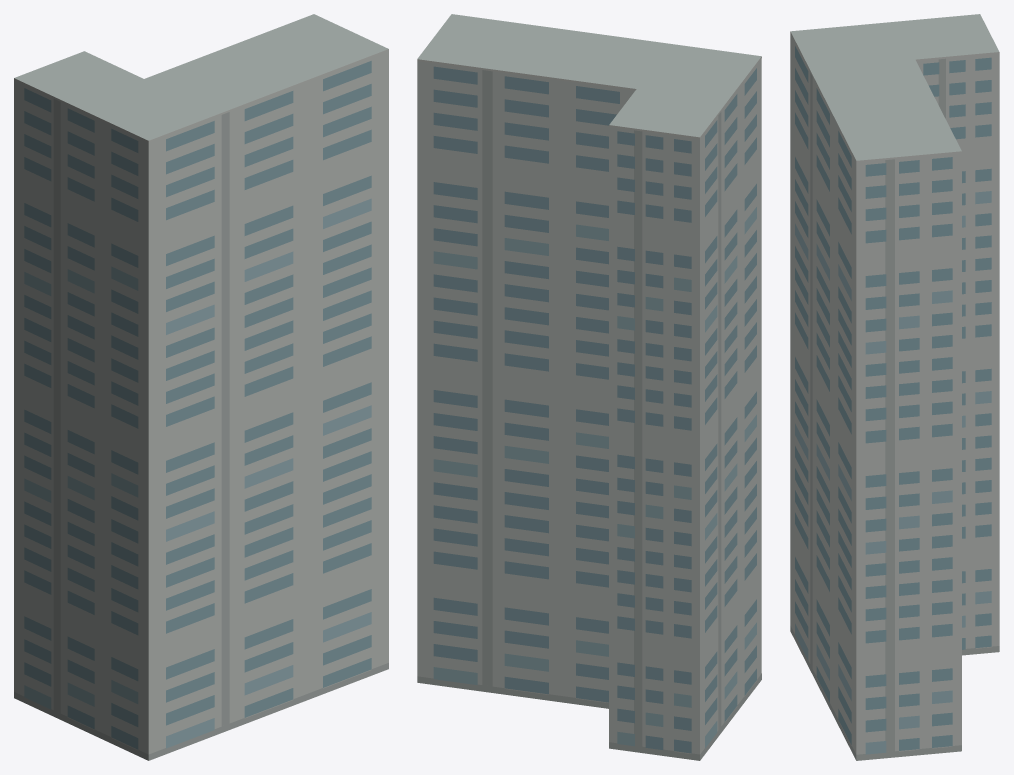
Rendered from residential-abd6624f-e7af-4553-9ba1-990d8e508806.glb.
3 renders of one model, left to right at view 1: azimuth 30°, elevation 25°; view 2: azimuth 150°, elevation 25°; view 3: azimuth 270°, elevation 25°, orthographic. The views are drawn at different scales.
Visible parts, largest first — view 1: residential-abd6624f-e7af-4553-9ba1-990d8e508806.tmp; view 2: residential-abd6624f-e7af-4553-9ba1-990d8e508806.tmp; view 3: residential-abd6624f-e7af-4553-9ba1-990d8e508806.tmp.
Part boxes in pixels (x1,y1,x2,y2): residential-abd6624f-e7af-4553-9ba1-990d8e508806.tmp: (14, 14, 388, 760); residential-abd6624f-e7af-4553-9ba1-990d8e508806.tmp: (417, 14, 761, 760); residential-abd6624f-e7af-4553-9ba1-990d8e508806.tmp: (790, 14, 999, 760).
Size of the model in its own units: 40.42 by 77 by 24.32.
